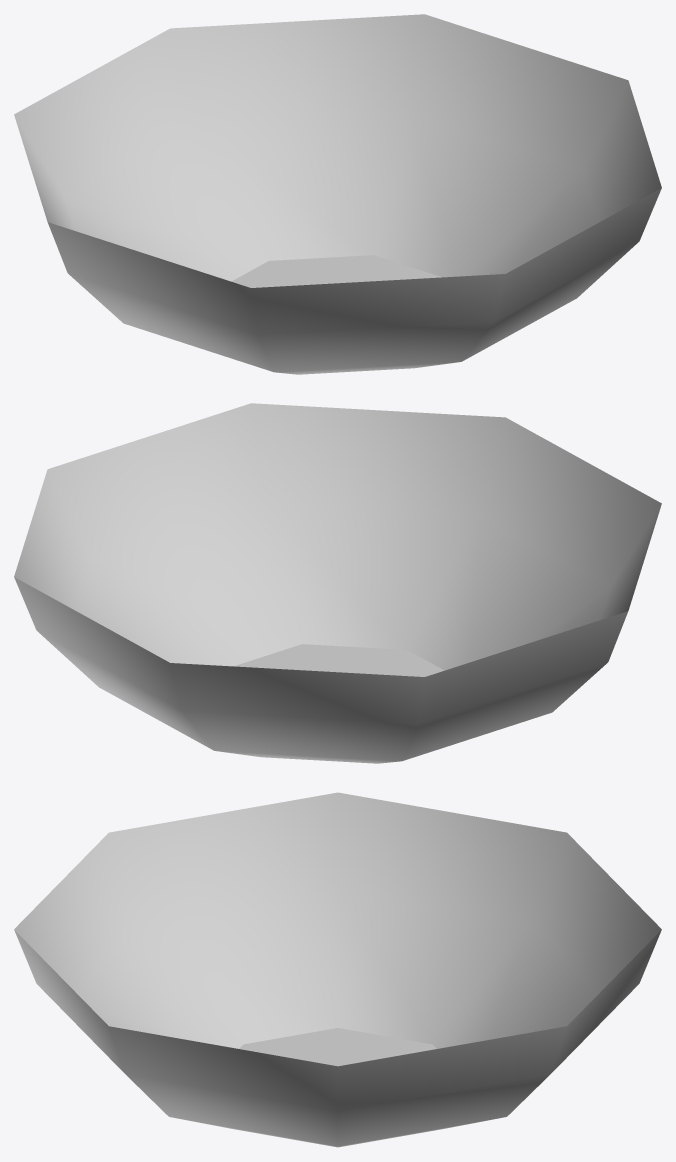
The model's file is Bowl_E.FBX.
3 views of the same model, one above another, from view 1: azimuth 30°, elevation 25°; view 2: azimuth 150°, elevation 25°; view 3: azimuth 270°, elevation 25° (orthographic). The views are drawn at different scales.
Visible parts, largest first — view 1: Bowl; view 2: Bowl; view 3: Bowl.
Part boxes in pixels (x1,y1,x2,y2): Bowl: [14, 14, 661, 374]; Bowl: [14, 403, 661, 763]; Bowl: [14, 792, 661, 1147].
Size of the model in its own units: 70.43 by 18.64 by 70.43.
